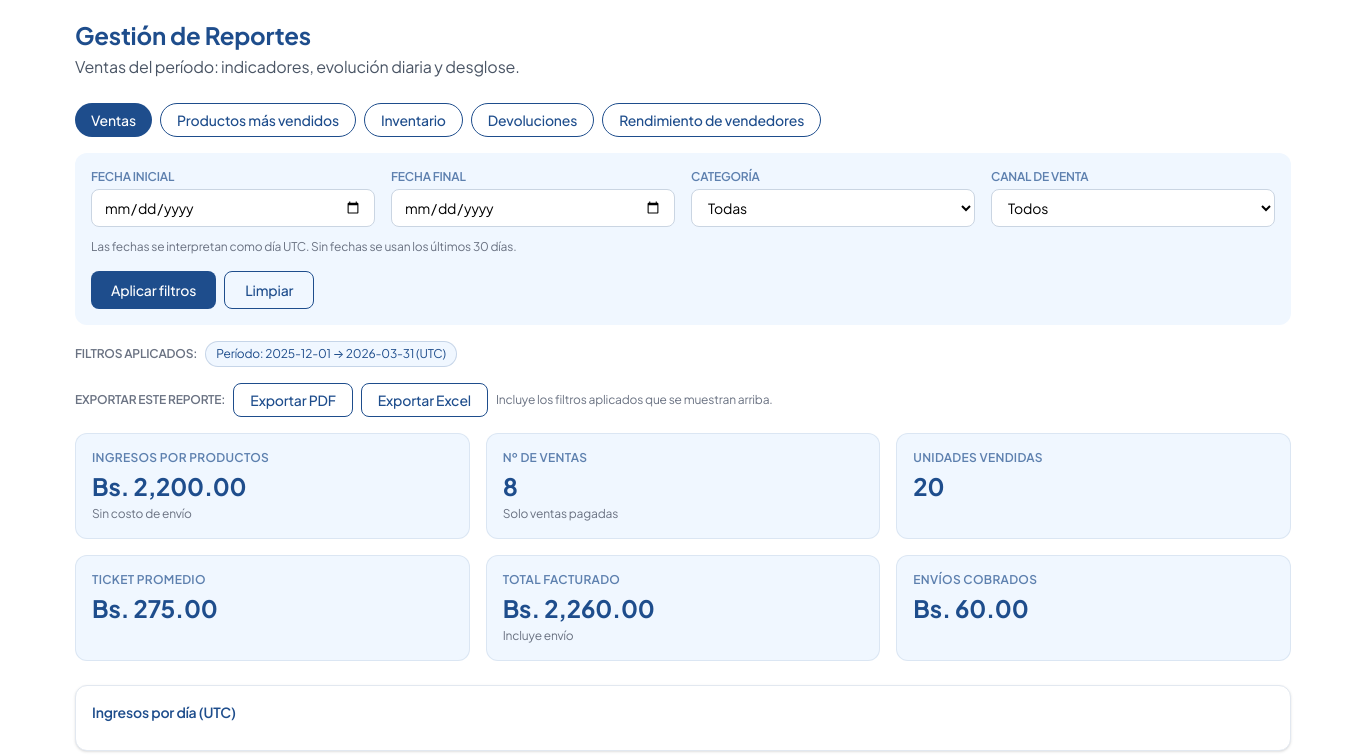
Test: ReportesComponent › consumo y presentación de los 5 endpoints › productos más vendidos: envía top y muestra ranking + gráfico
Step 1. Click the tab "Productos más vendidos" → point(258, 120), box [160,103,356,137]
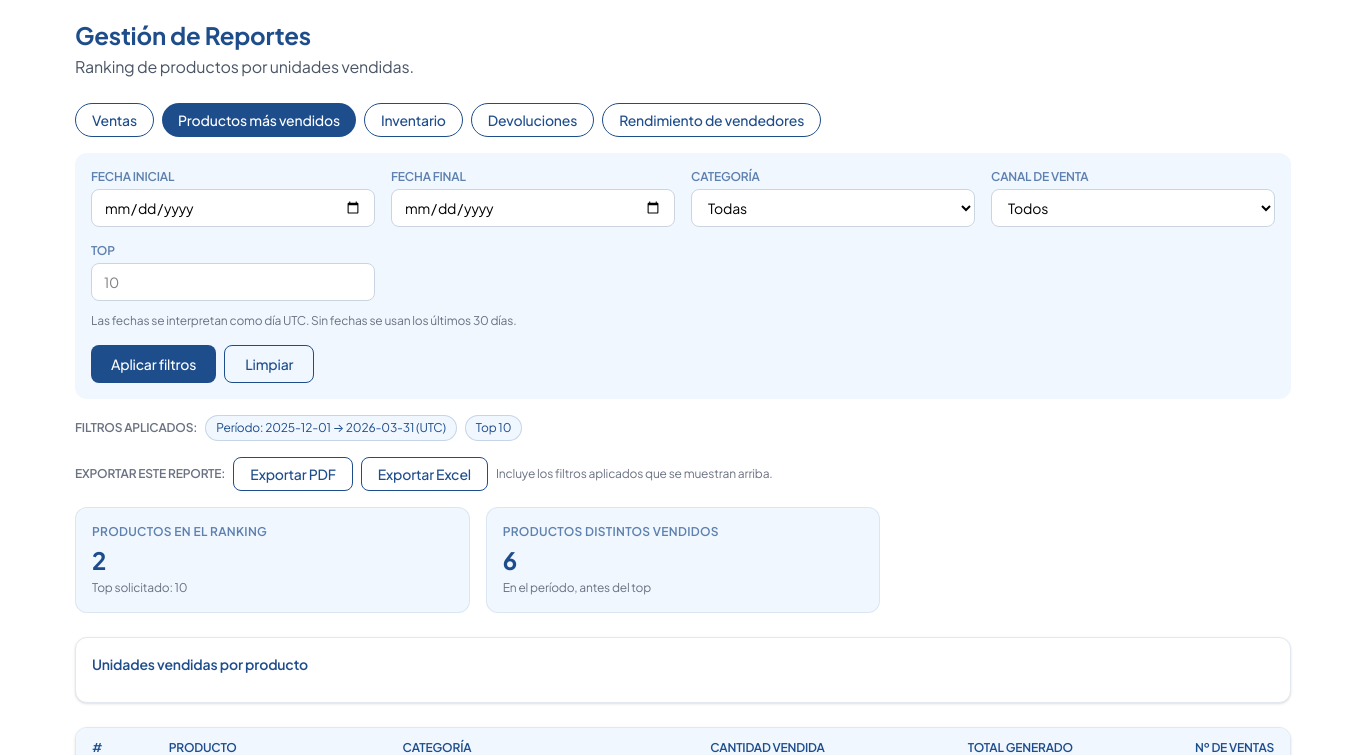
Step 2. Type "2" into the number field labelled "Top" → point(233, 282), box [91,263,375,301]
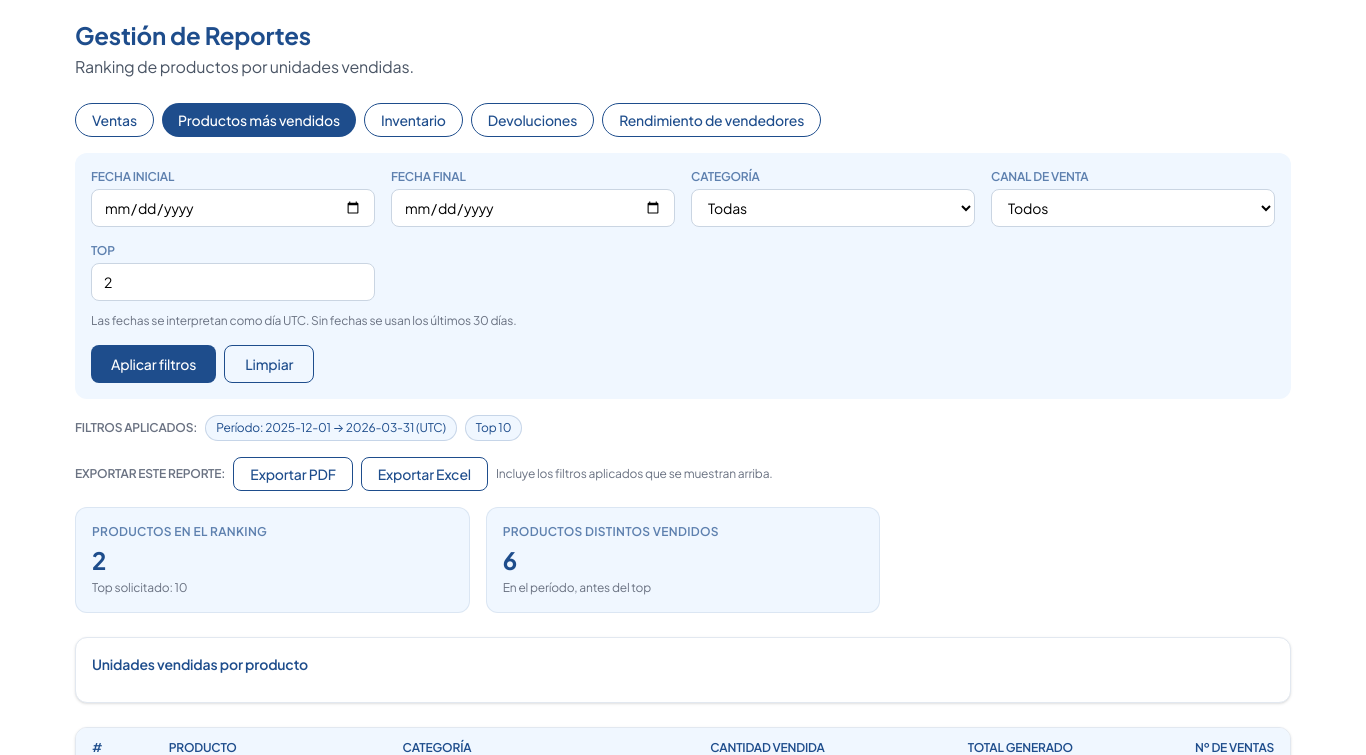
Step 3. Select "POS (mostrador)" in the dropdown labelled "Canal de venta" → point(1133, 208), box [991,189,1275,227]
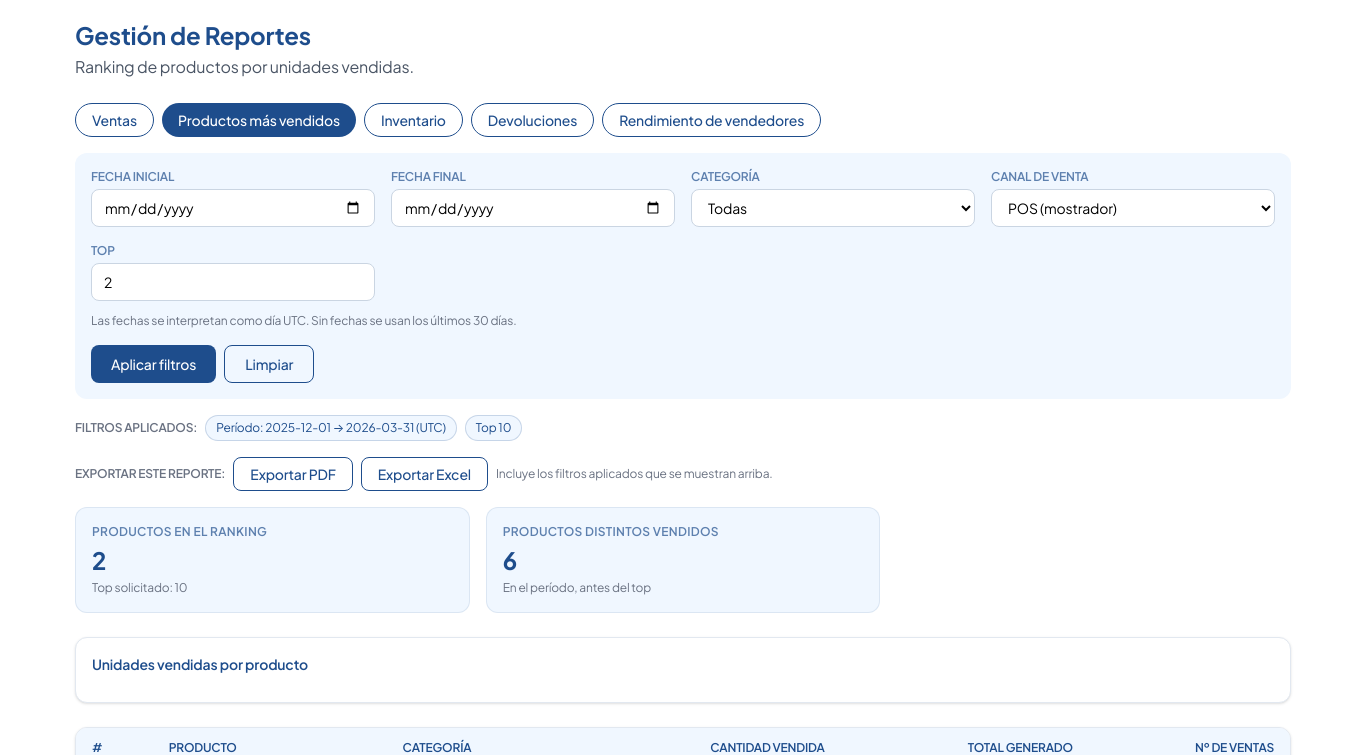
Step 4. Click the button "Aplicar filtros" → point(154, 364), box [91,345,216,383]
(page scrolled)
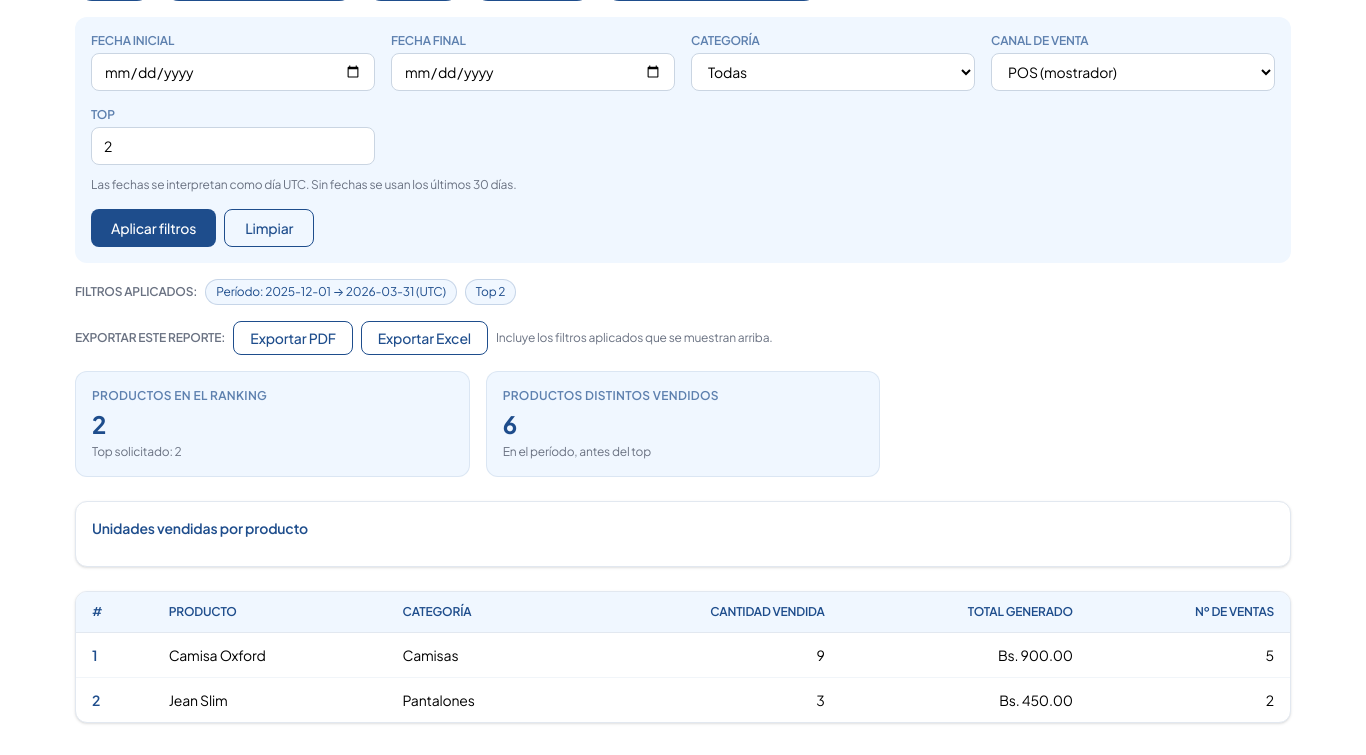
Expected: the row "1 Camisa Oxford Camisas 9 Bs. 900.00 5" is shown, [76,632,1290,678]
Expected: the text "Top 2" is shown, [465,279,516,305]
